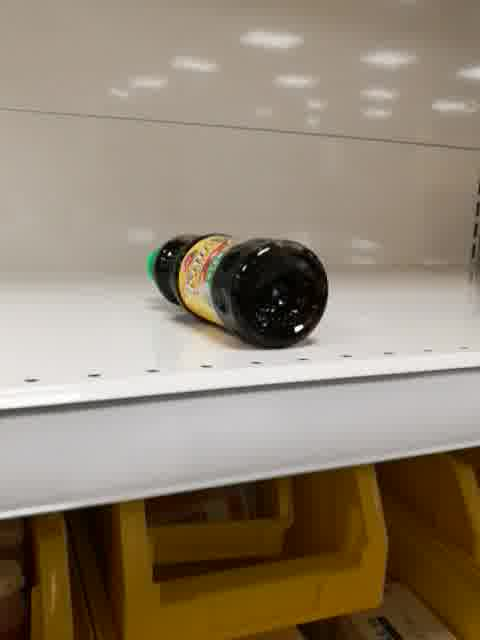cookingoil: (143, 228, 334, 353)
